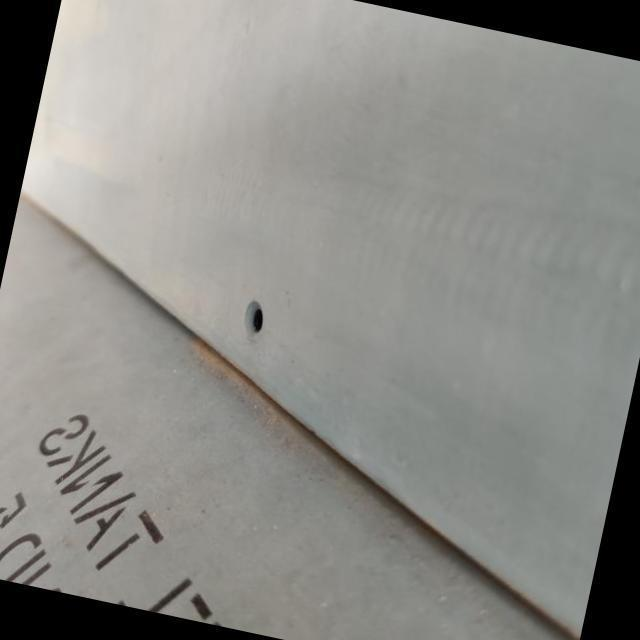Fastener Damage: (210, 272, 299, 371)
